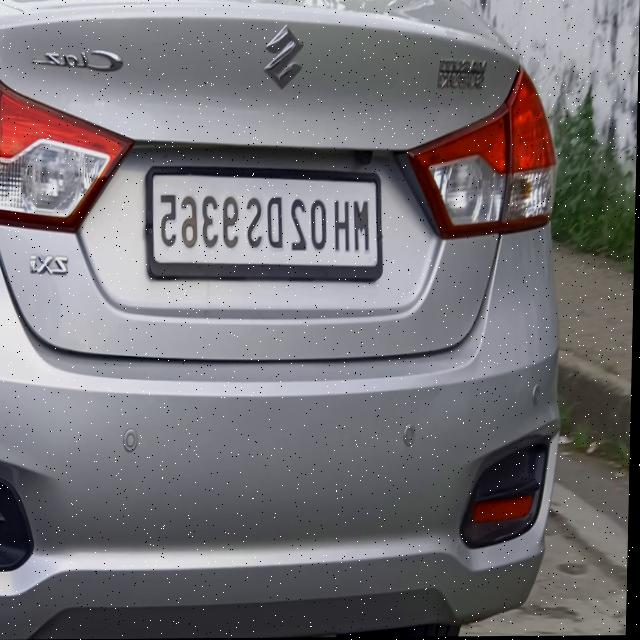plate: (145, 164, 387, 282)
